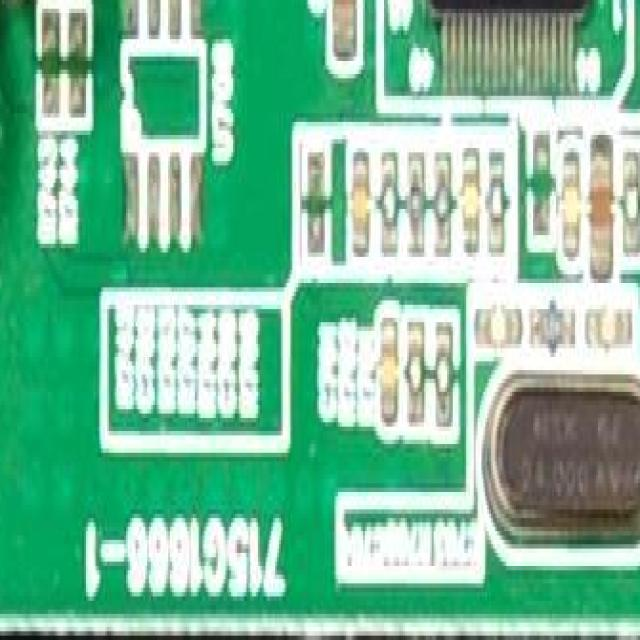IC: (113, 0, 231, 253), (382, 0, 628, 91)
capacitor: (336, 130, 378, 274), (526, 118, 556, 255), (582, 296, 640, 365), (472, 287, 522, 359), (590, 139, 615, 276), (378, 296, 400, 442), (560, 130, 582, 270), (462, 131, 482, 255), (325, 0, 353, 61)
resistor: (296, 130, 331, 274), (527, 283, 582, 364), (430, 139, 459, 263), (68, 0, 94, 122), (433, 314, 458, 433), (405, 300, 428, 428), (35, 0, 61, 113), (405, 126, 424, 257), (624, 126, 640, 265), (487, 135, 505, 250), (382, 148, 398, 253)
